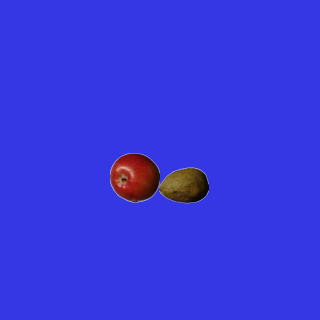Apple Braeburn: (109, 152, 159, 202)
Papaya: (158, 160, 208, 210)
